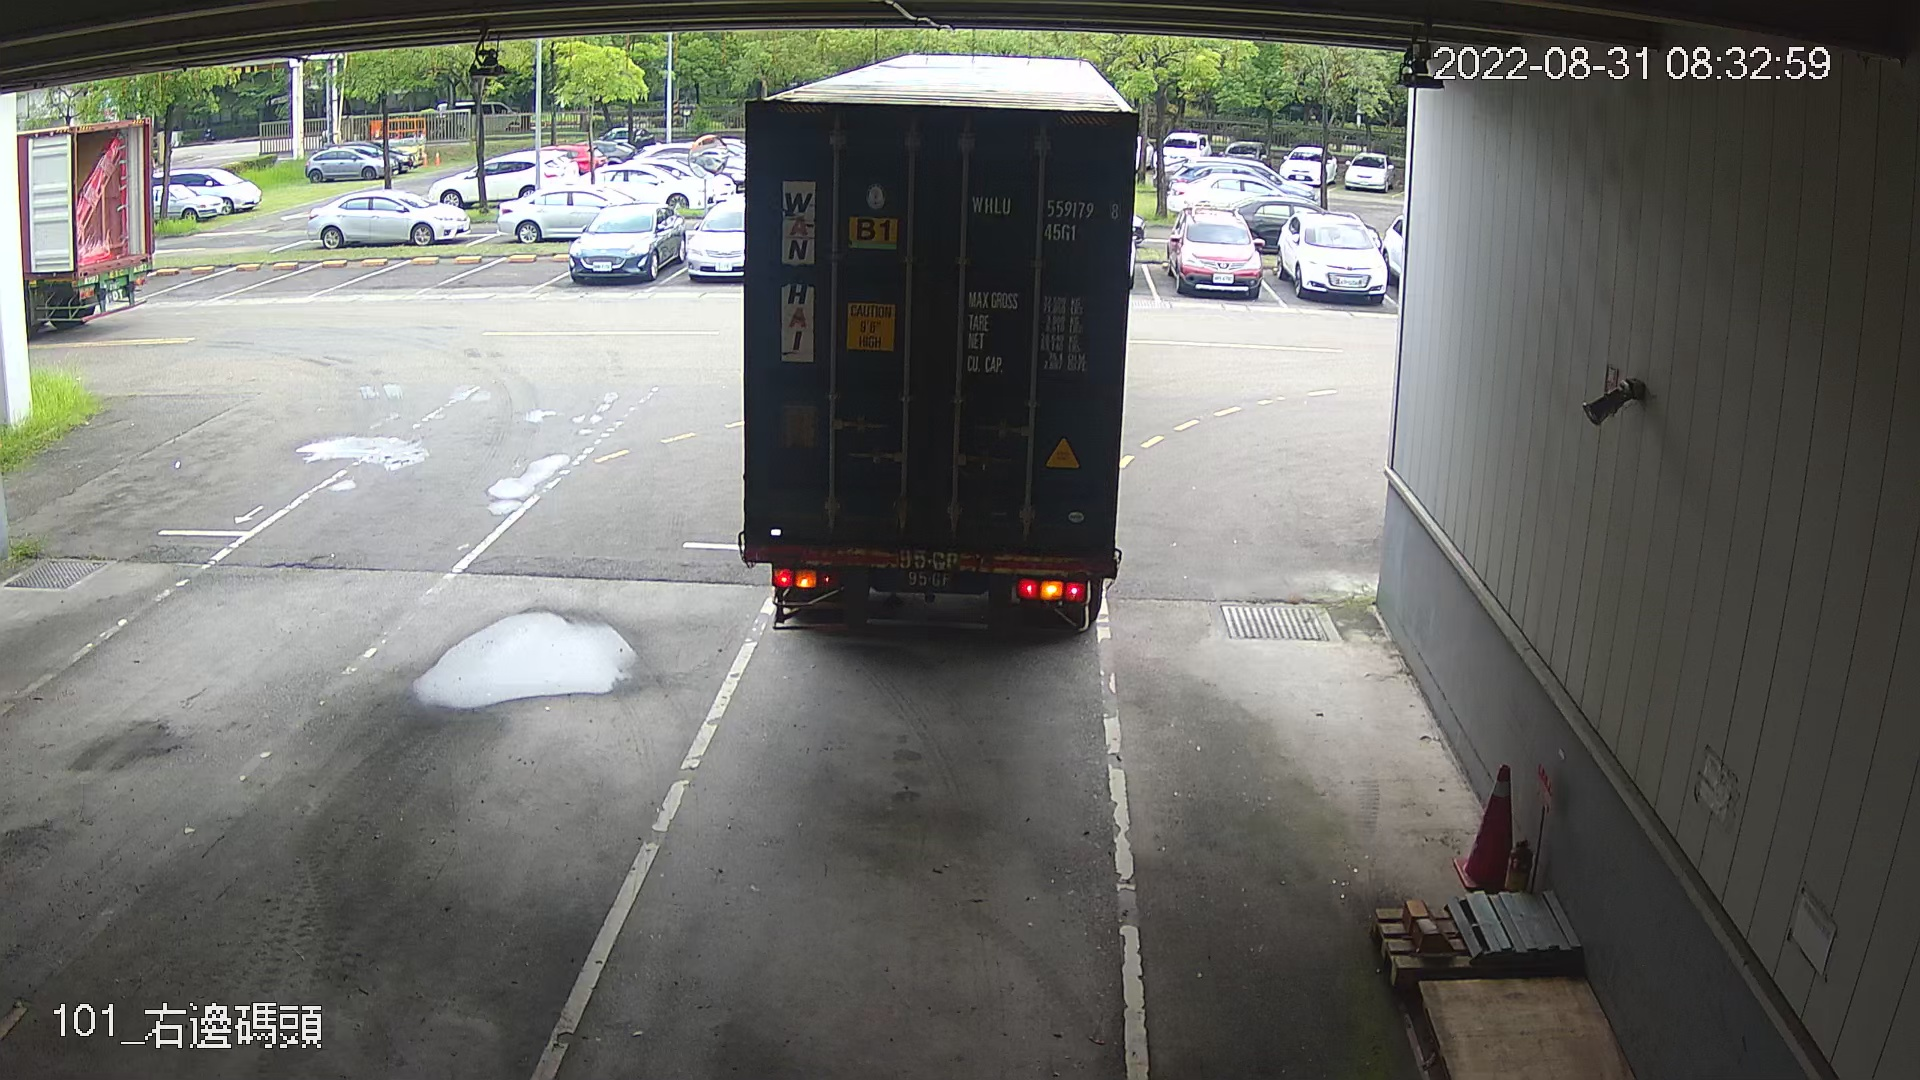container: (963, 179, 1125, 245)
